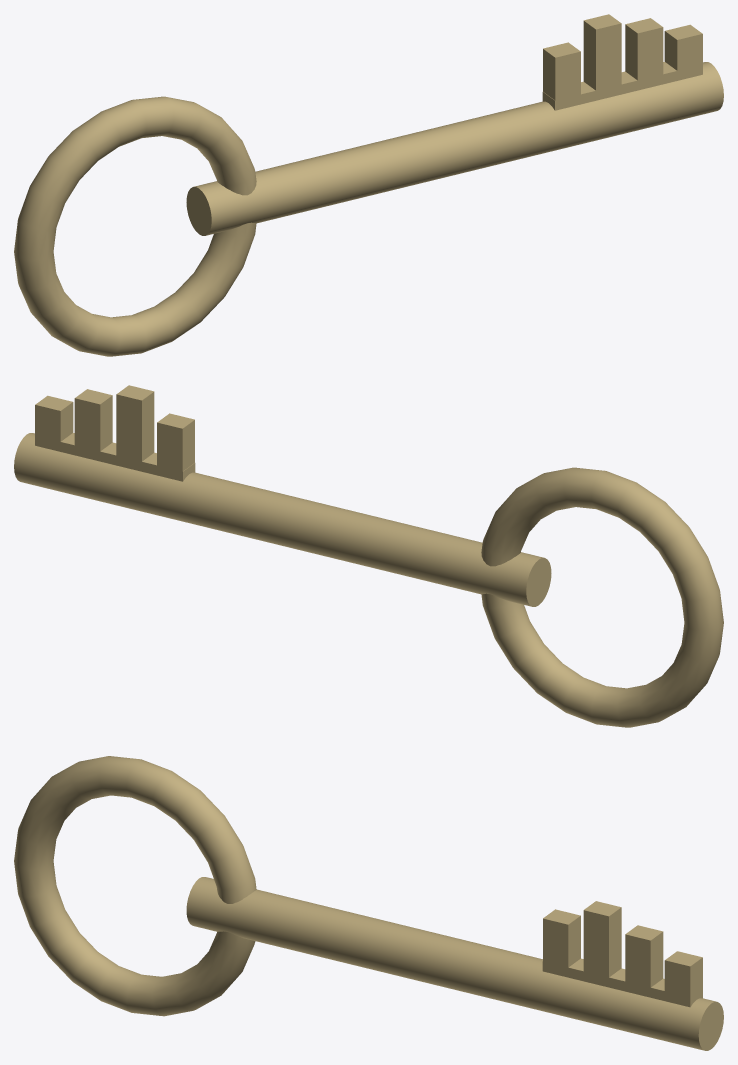
Rendered from key.obj.
The picture shows the model from 3 angles, top to bottom: view 1: azimuth 30°, elevation 25°; view 2: azimuth 150°, elevation 25°; view 3: azimuth 330°, elevation 25°; orthographic projection.
Visible parts, largest first — view 1: Cylinder, Torus, Box2, Box4, Box3, Box, Box1; view 2: Cylinder, Torus, Box2, Box4, Box3, Box, Box1; view 3: Cylinder, Torus, Box2, Box3, Box4, Box1, Box.
Part boxes in pixels (left/top/right/bottom): Cylinder: left=186, top=62, right=723, bottom=235; Torus: left=14, top=96, right=256, bottom=356; Box2: left=583, top=14, right=621, bottom=98; Box4: left=625, top=18, right=663, bottom=80; Box3: left=543, top=42, right=580, bottom=106; Box: left=542, top=62, right=702, bottom=110; Box1: left=664, top=24, right=702, bottom=80; Cylinder: left=14, top=433, right=551, bottom=606; Torus: left=481, top=467, right=723, bottom=727; Box2: left=116, top=385, right=154, bottom=471; Box4: left=74, top=389, right=112, bottom=454; Box3: left=157, top=413, right=194, bottom=481; Box: left=35, top=433, right=195, bottom=481; Box1: left=35, top=395, right=73, bottom=451; Cylinder: left=186, top=877, right=723, bottom=1050; Torus: left=14, top=756, right=256, bottom=1016; Box2: left=583, top=901, right=621, bottom=986; Box3: left=543, top=909, right=580, bottom=976; Box4: left=625, top=925, right=663, bottom=990; Box1: left=664, top=951, right=702, bottom=1007; Box: left=542, top=958, right=690, bottom=1006.
Size of the model in its own units: 2.03 by 0.7 by 0.1278.
